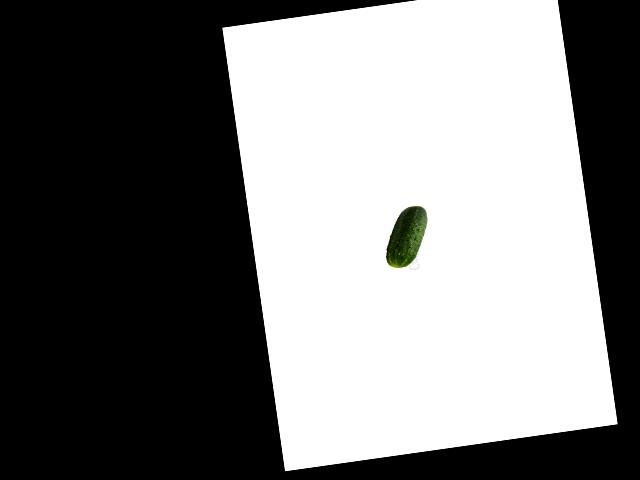cucumber: (379, 204, 433, 269)
